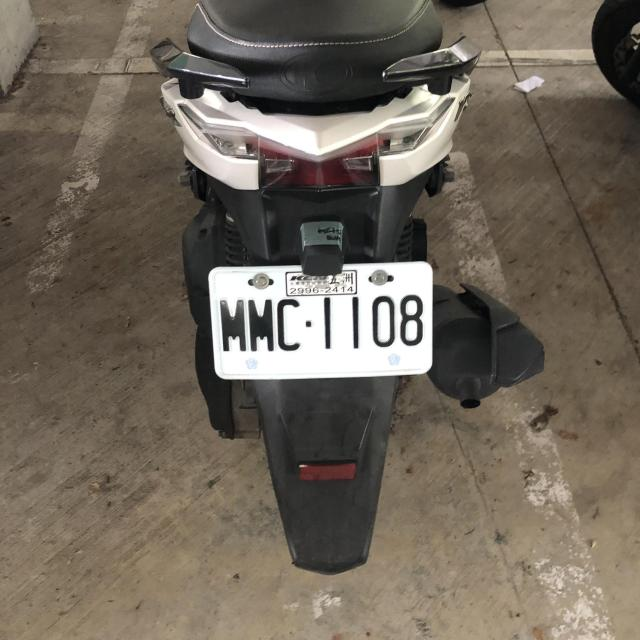W: (206, 255, 436, 383)
